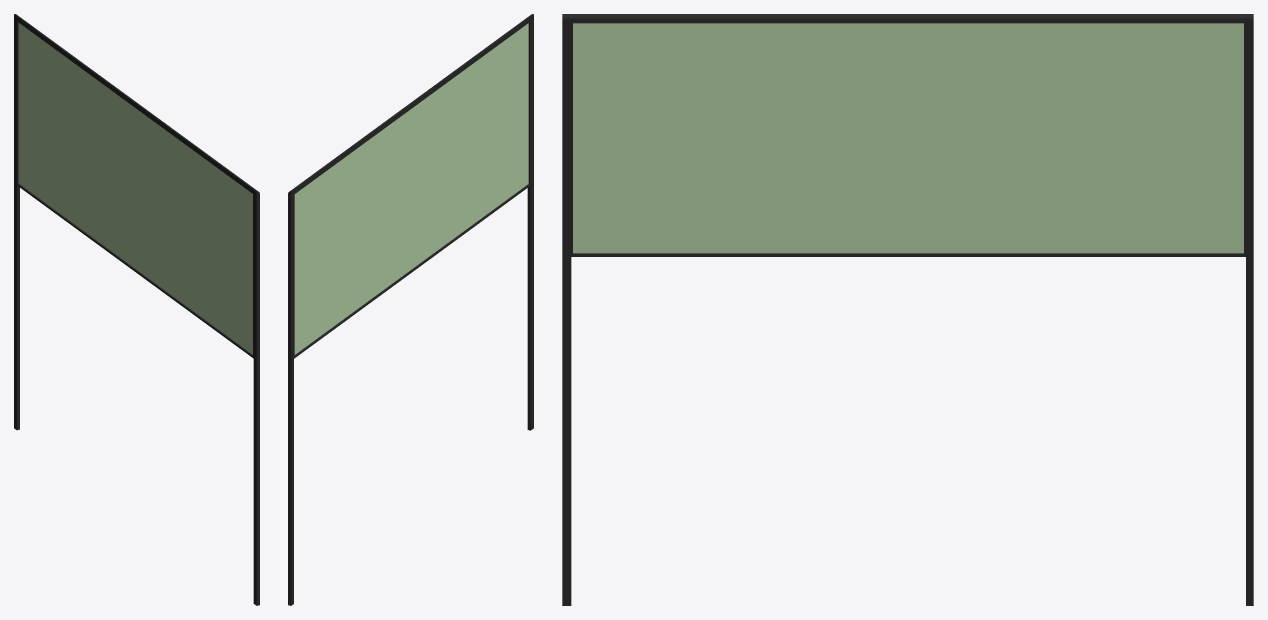
The model's file is qudrix-webgl_q1_sides_automatic-sunscreen.glb.
The picture shows the model from 3 angles, left to right: view 1: azimuth 30°, elevation 25°; view 2: azimuth 150°, elevation 25°; view 3: azimuth 270°, elevation 25°; orthographic projection. The views are drawn at different scales.
Parts seen in each view (by area): view 1: sides_automatic-sunscreen-base, sides_automatic-sunscreen-frame; view 2: sides_automatic-sunscreen-base, sides_automatic-sunscreen-frame; view 3: sides_automatic-sunscreen-base, sides_automatic-sunscreen-frame.
Boxes of the visible parts, box(x1,y1,x2,y2) form: sides_automatic-sunscreen-base: box(17, 21, 253, 358); sides_automatic-sunscreen-frame: box(14, 14, 259, 605); sides_automatic-sunscreen-base: box(294, 21, 530, 358); sides_automatic-sunscreen-frame: box(288, 14, 533, 605); sides_automatic-sunscreen-base: box(571, 22, 1245, 256); sides_automatic-sunscreen-frame: box(562, 14, 1253, 605).
Size of the model in its own units: 0.0206 by 2.64 by 2.8.
